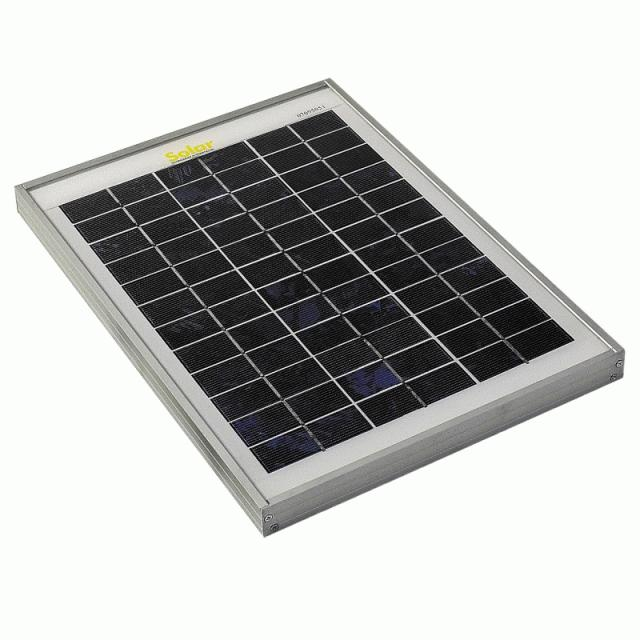clean-solar-panel: (279, 296, 336, 331)
